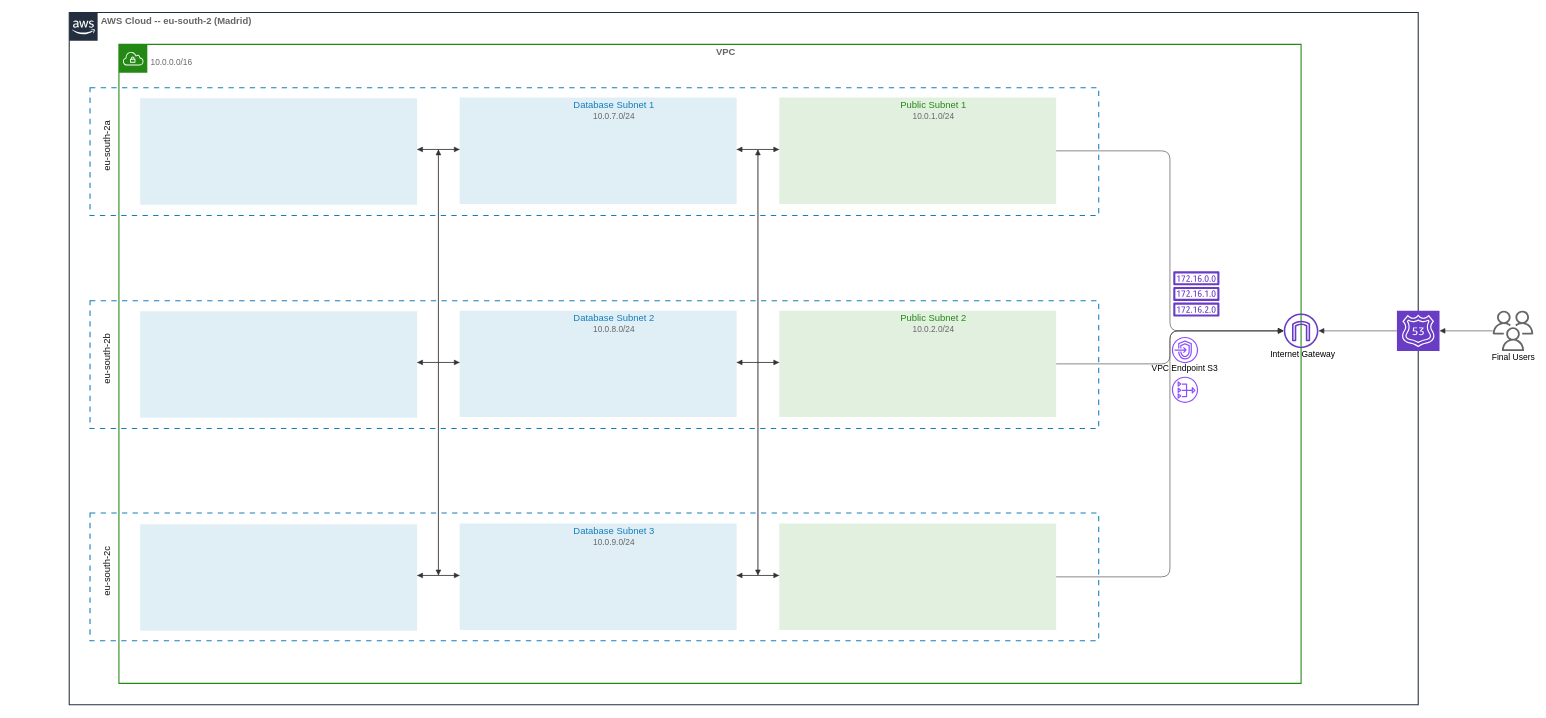
This 1546x718 diagram has some shape labels left out. The box of each missing label's shape, as (x1, y1, x2, y2) in pixels:
DNS Resolution: (1396, 310, 1440, 351)
NAT Gateway: (1172, 376, 1198, 403)
Private Subnet 1 10.0.4.0/24: (139, 97, 417, 205)
Private Subnet 2 10.0.5.0/24: (139, 310, 417, 418)
Private Subnet 3 10.0.6.0/24: (139, 523, 417, 631)
Public Subnet 3 10.0.3.0/24: (778, 523, 1056, 630)
Route Tables: (1173, 270, 1219, 318)
